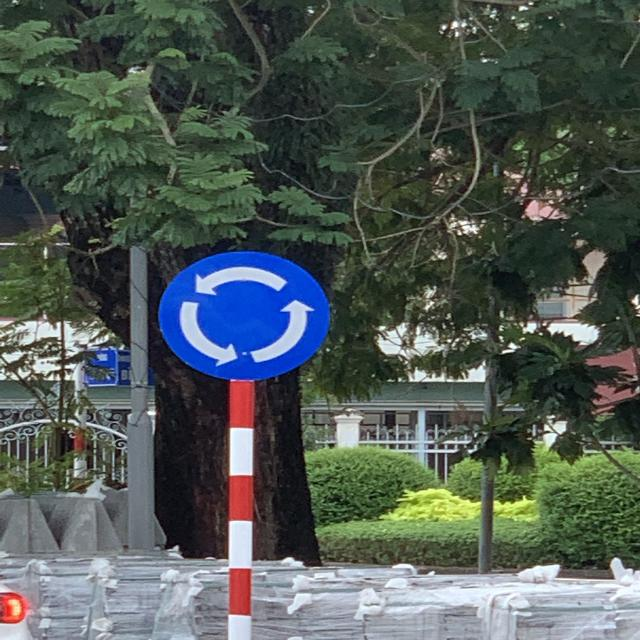Xe_Bus: (157, 250, 333, 382)
